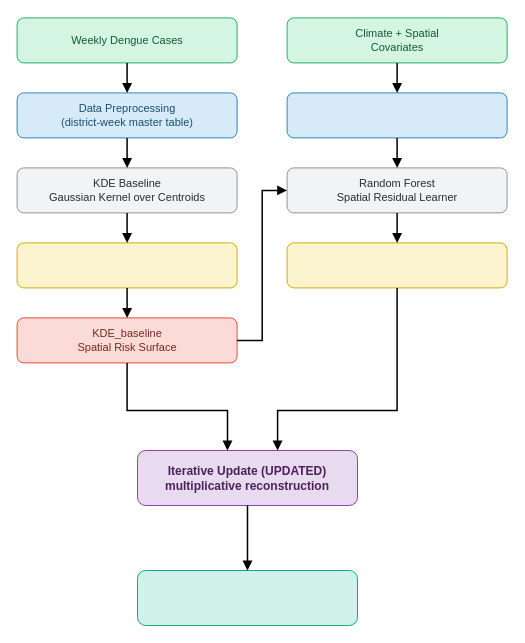
Some shapes in this 525 by 643 pixel diagram are drawn without their labels. The box of each missing label's shape, as (x1, y1, x2, y2) in pixels:
Feature Engineering + Relative Residual Lags (NEW): (286, 92, 507, 138)
Hybrid Hotspot / Risk Map Now beats naive baseline (MAE 8.03 vs 9.44): (136, 570, 358, 626)
Moran's I Check I = 0.70, p = 0.001: (16, 242, 237, 288)
Relative Residual (UPDATED) (Actual - Risk) / (Risk + 1): (286, 242, 507, 288)
